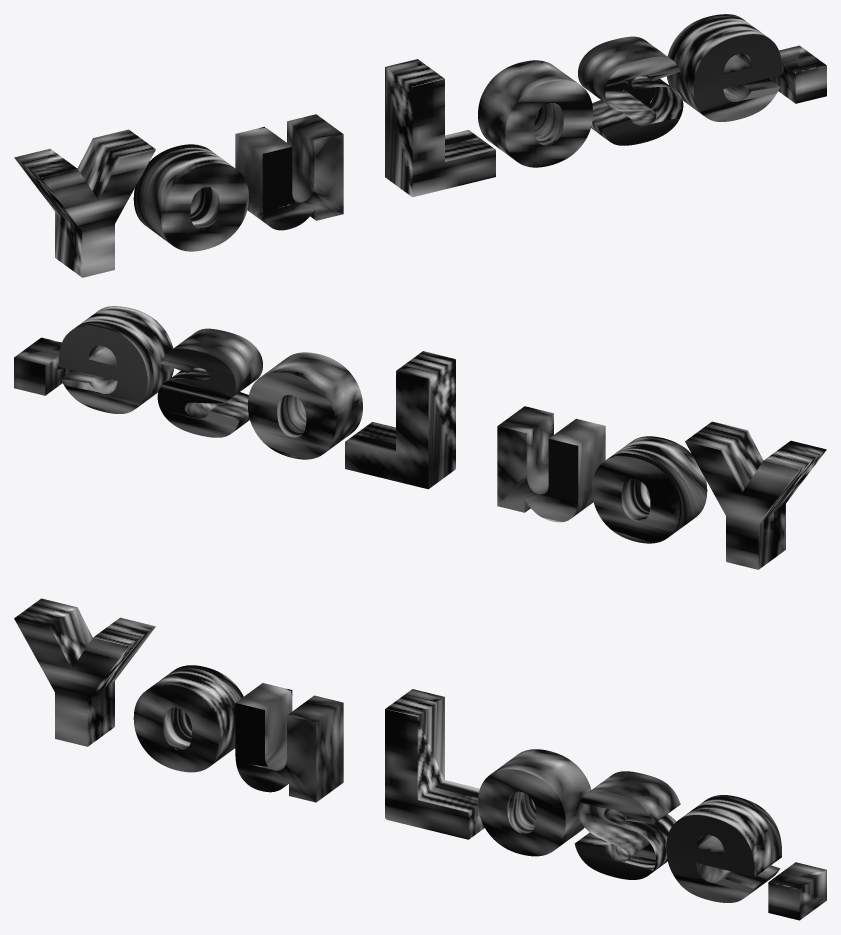
The model's file is youlose.obj.
The picture shows the model from 3 angles, top to bottom: view 1: azimuth 30°, elevation 25°; view 2: azimuth 150°, elevation 25°; view 3: azimuth 330°, elevation 25°; orthographic projection.
Visible parts, largest first — view 1: youlose_Mesh.001; view 2: youlose_Mesh.001; view 3: youlose_Mesh.001.
Boxes of the visible parts, x1,y1,x2,y2 form: youlose_Mesh.001: [14, 14, 826, 277]; youlose_Mesh.001: [14, 306, 826, 569]; youlose_Mesh.001: [14, 598, 826, 920].
Size of the model in its own units: 16.59 by 2.27 by 1.
Materials: 1 (1 with a texture image).
